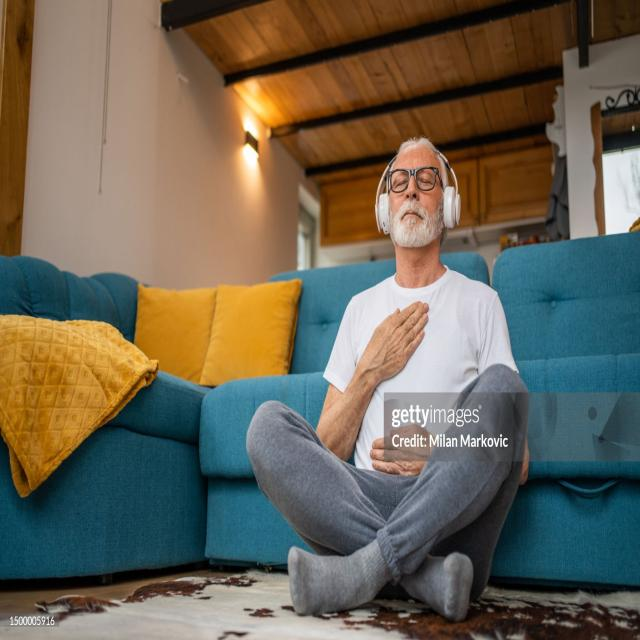idoso sentado: (245, 135, 531, 622)
